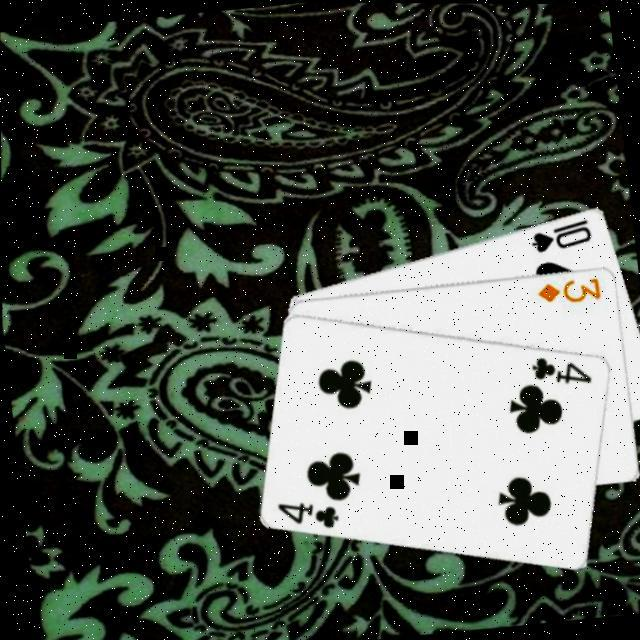10S: (524, 214, 593, 256)
3D: (531, 274, 602, 308)
4C: (272, 494, 341, 538), (525, 350, 592, 390)
